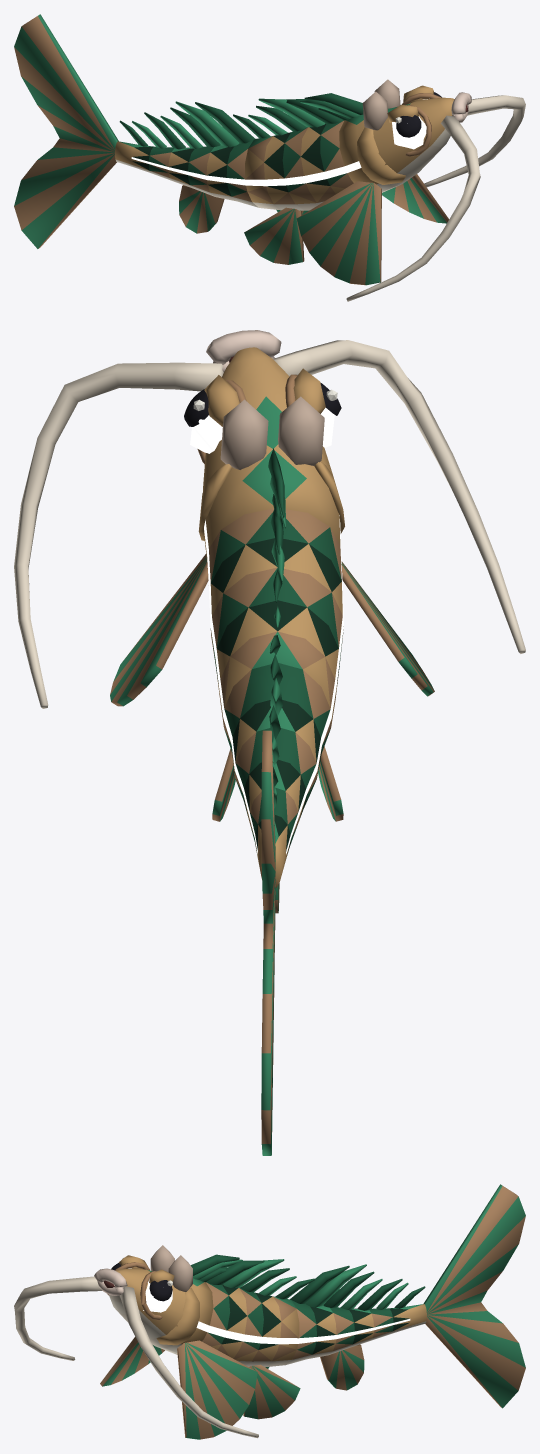
The model's file is carp-horn-bud.glb.
3 views of the same model, one above another, from view 1: azimuth 30°, elevation 25°; view 2: azimuth 150°, elevation 25°; view 3: azimuth 270°, elevation 25° (orthographic). The views are drawn at different scales.
Visible parts, largest first — view 1: wag_body_2, wag_body_0, wag_body_1, carp_head, glide_fin_r, sway_barbel_r, sway_barbel_l, glide_fin_l, pulse_gill_r, blink_eye_r; view 2: wag_body_0, carp_head, wag_body_1, sway_barbel_l, sway_barbel_r, wag_body_2, glide_fin_l, glide_fin_r, blink_eye_l; view 3: wag_body_2, wag_body_0, wag_body_1, carp_head, glide_fin_l, sway_barbel_l, sway_barbel_r, glide_fin_r, pulse_gill_l, blink_eye_l.
Boxes of the visible parts, x1,y1,x2,y2 form: wag_body_2: (14,14,118,248); wag_body_0: (233,98,353,264); wag_body_1: (115,101,258,233); carp_head: (300,79,471,192); glide_fin_r: (296,181,381,285); sway_barbel_r: (346,115,480,301); sway_barbel_l: (424,95,525,187); glide_fin_l: (382,174,448,223); pulse_gill_r: (357,127,405,184); blink_eye_r: (392,115,426,149); wag_body_0: (207,508,343,821); carp_head: (197,330,341,563); wag_body_1: (223,654,331,913); sway_barbel_l: (14,362,223,708); sway_barbel_r: (273,340,525,653); wag_body_2: (261,730,275,1155); glide_fin_l: (110,553,208,706); glide_fin_r: (341,561,434,696); blink_eye_l: (184,389,222,453); wag_body_2: (423,1184,525,1408); wag_body_0: (174,1259,314,1419); wag_body_1: (286,1264,426,1390); carp_head: (94,1245,242,1353); glide_fin_l: (177,1340,257,1439); sway_barbel_l: (120,1286,258,1438); sway_barbel_r: (14,1276,102,1360); glide_fin_r: (100,1336,164,1386); pulse_gill_l: (156,1287,199,1345); blink_eye_l: (143,1279,172,1312).
Size of the model in its own units: 0.6977 by 0.5208 by 1.02.
